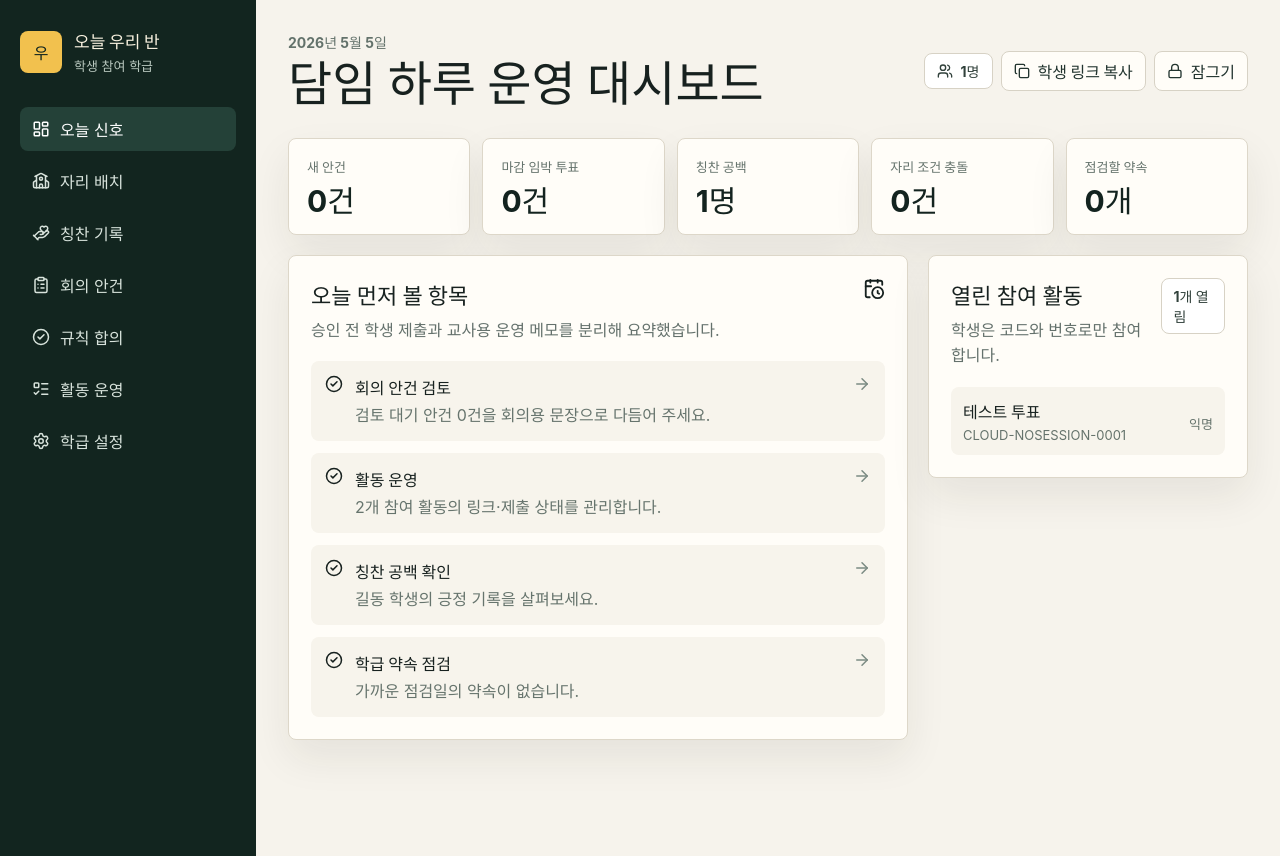
Scenario: homeroom app workflows › shows teacher login form when cloud is enabled but no teacher session exists
This screenshot has width=1280, height=856.
What coordinates should you click on to do the following:
click the button "활동 운영"
I would click on:
 (128, 389)
Its box is [20,367,236,411].
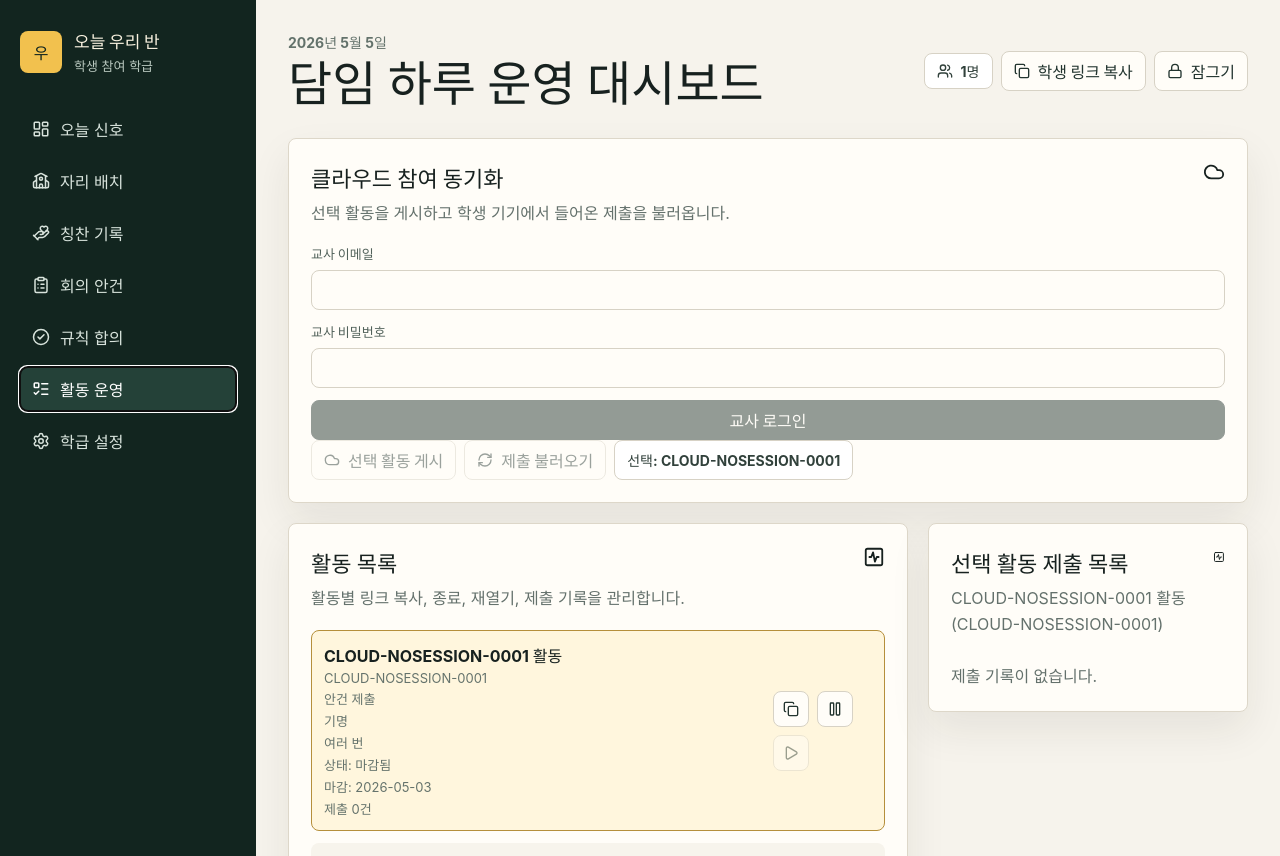
Result: the field labelled "교사 이메일" is shown at [311,270,1225,310]
Result: the password field labelled "교사 비밀번호" is shown at [311,348,1225,388]
Result: the button "교사 로그인" is disabled at [311,400,1225,440]
